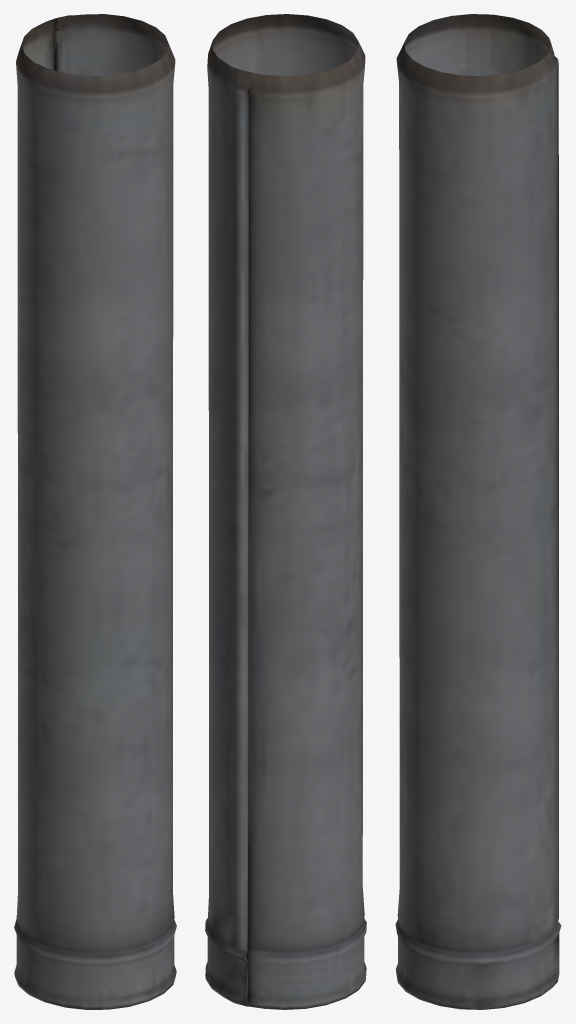
Rendered from gutter_pipe.glb.
3 views of the same model, side by side, from view 1: azimuth 30°, elevation 25°; view 2: azimuth 150°, elevation 25°; view 3: azimuth 270°, elevation 25° (orthographic).
Parts seen in each view (by area): view 1: gutter_pipe; view 2: gutter_pipe; view 3: gutter_pipe.
Boxes of the visible parts, x1,y1,x2,y2 form: gutter_pipe: (14,14,176,1009); gutter_pipe: (205,14,366,1009); gutter_pipe: (395,14,561,1009).
Size of the model in its own units: 0.1576 by 1 by 0.1613.
1 material, 1 textured.
